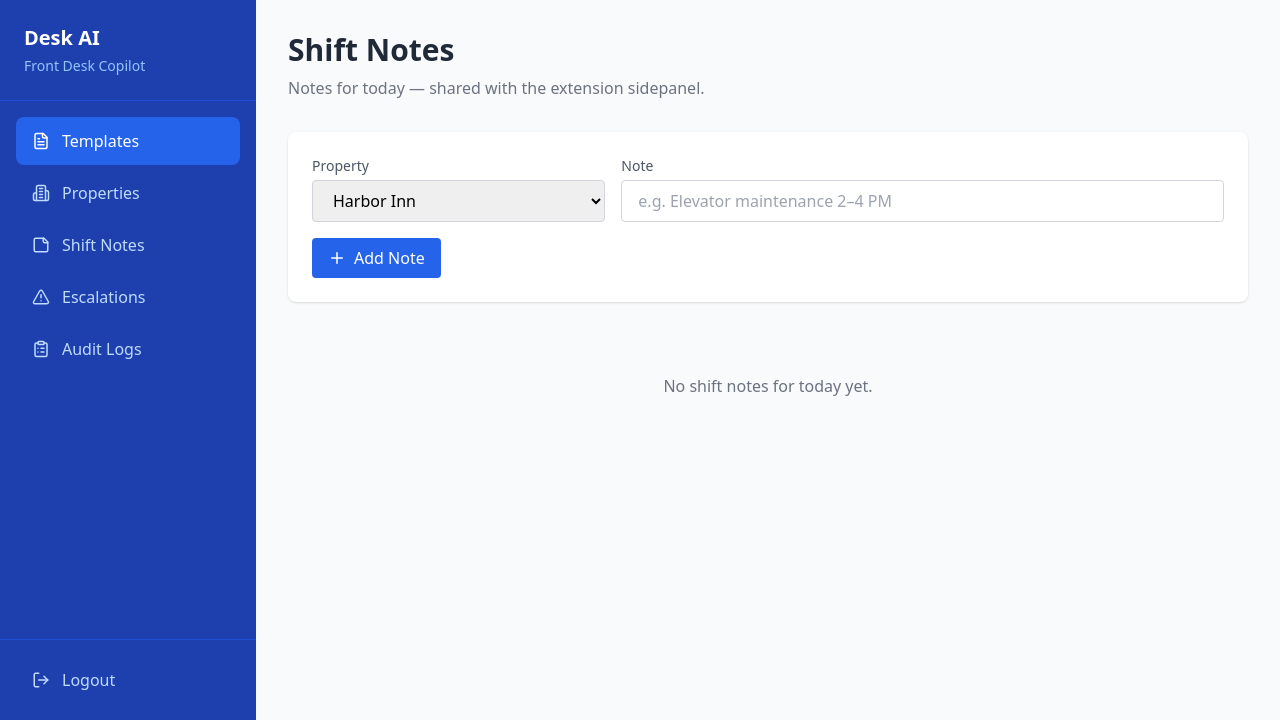
Test case: server validation messages › shows the server message when a shift note cannot be added
Step 1. Type "Pool closed" into the field with placeholder "e.g. Elevator maintenance 2–4 PM" → (923, 201), box [621,180,1224,222]
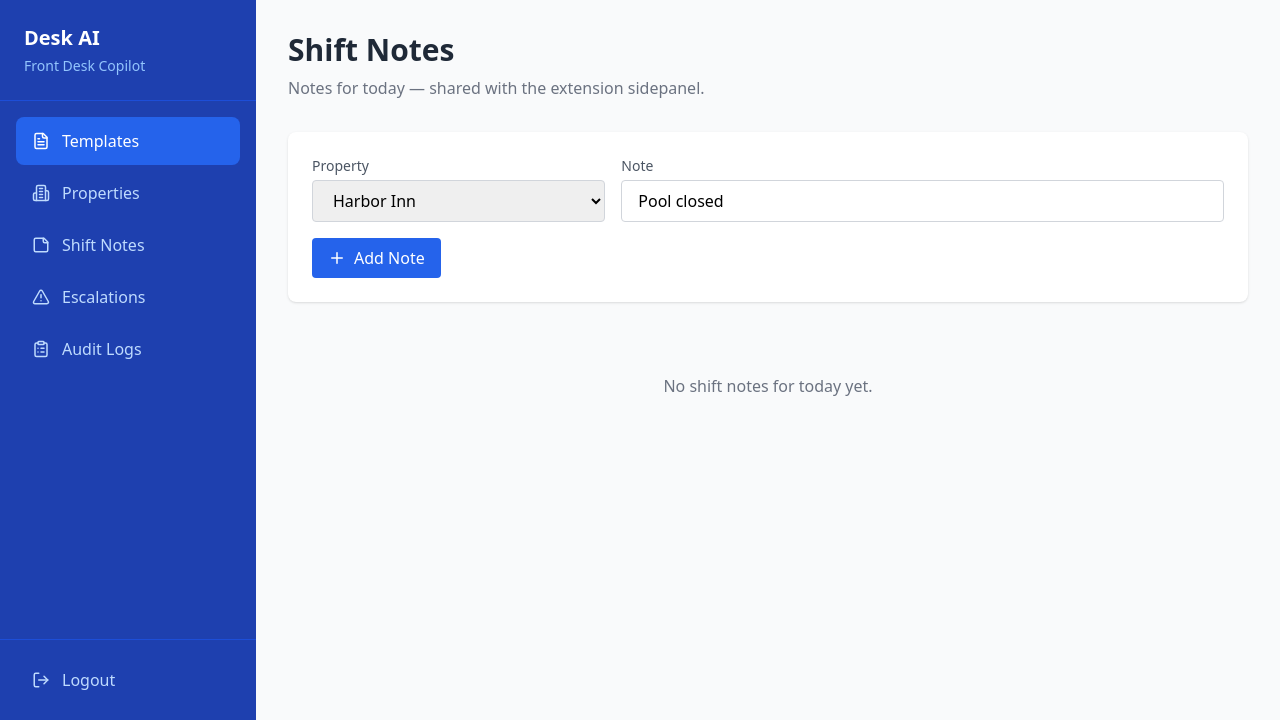
Step 2. Click the button "Add Note" → click(376, 258), box [312,238,441,278]
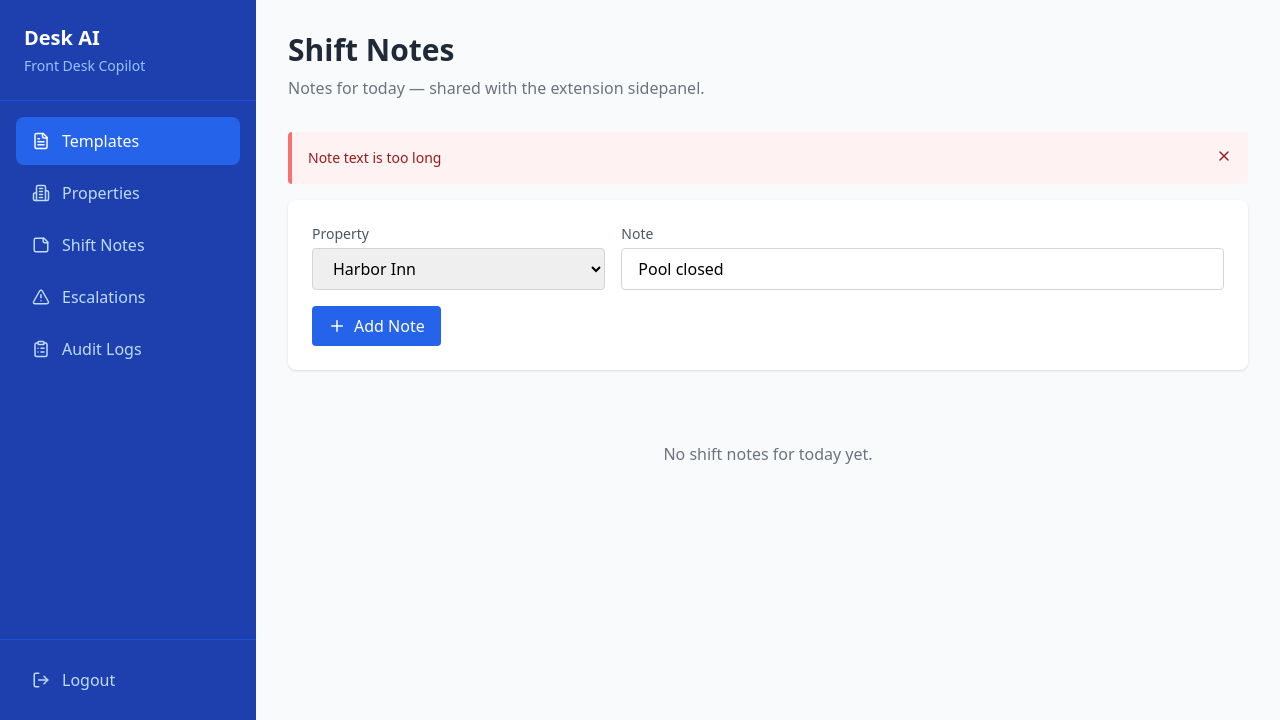
Now the text "Note text is too long" is shown, box [308,148,441,168]
